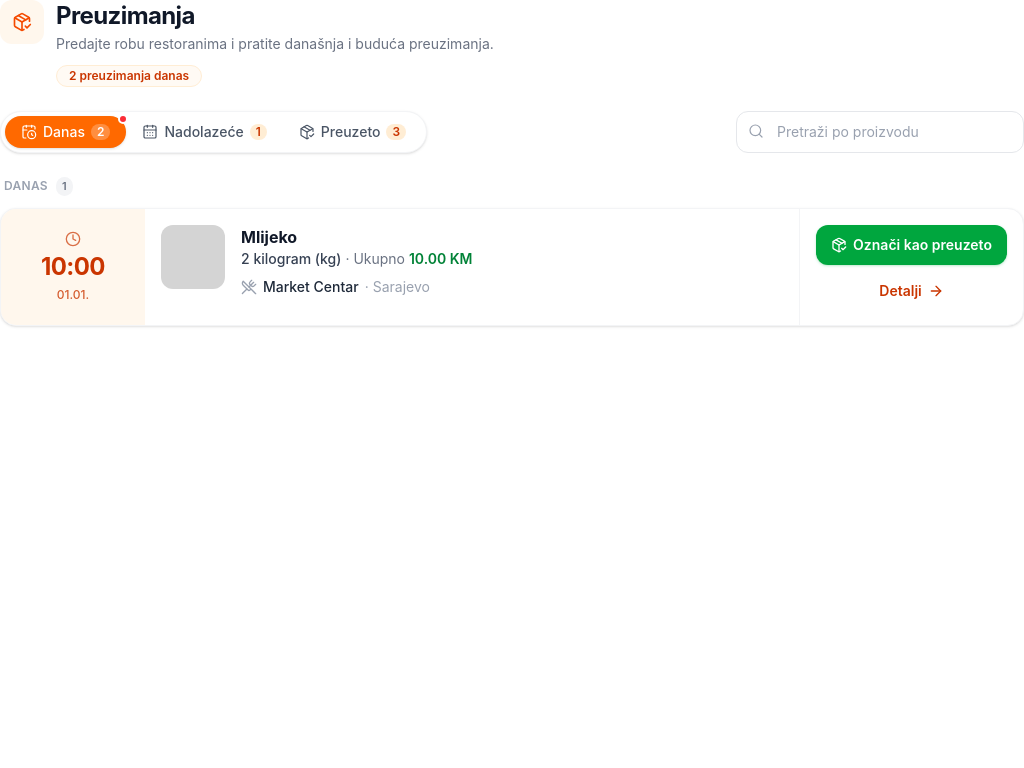
Test: PickupsPage › lets the store confirm a pickup and reloads the list and the counts
Step 1. Click the button "Označi kao preuzeto" → (912, 245), box x1=816 y1=225 x2=1007 y2=265
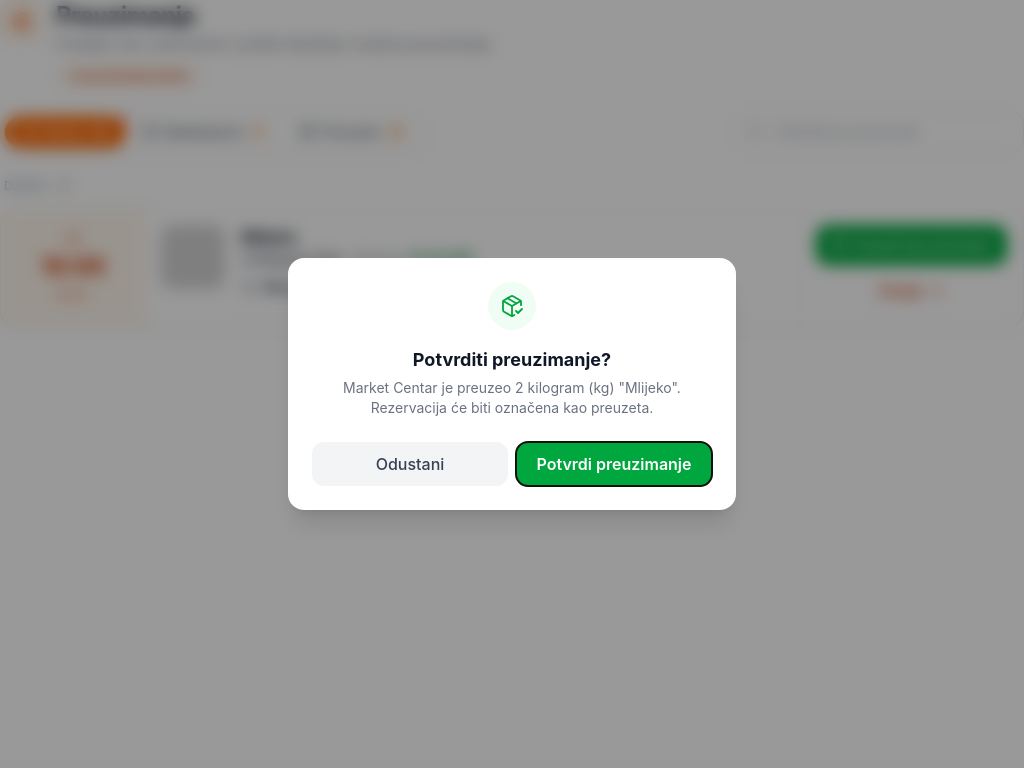
Step 2. Click the button "Potvrdi preuzimanje" → (614, 464), box x1=516 y1=442 x2=712 y2=486
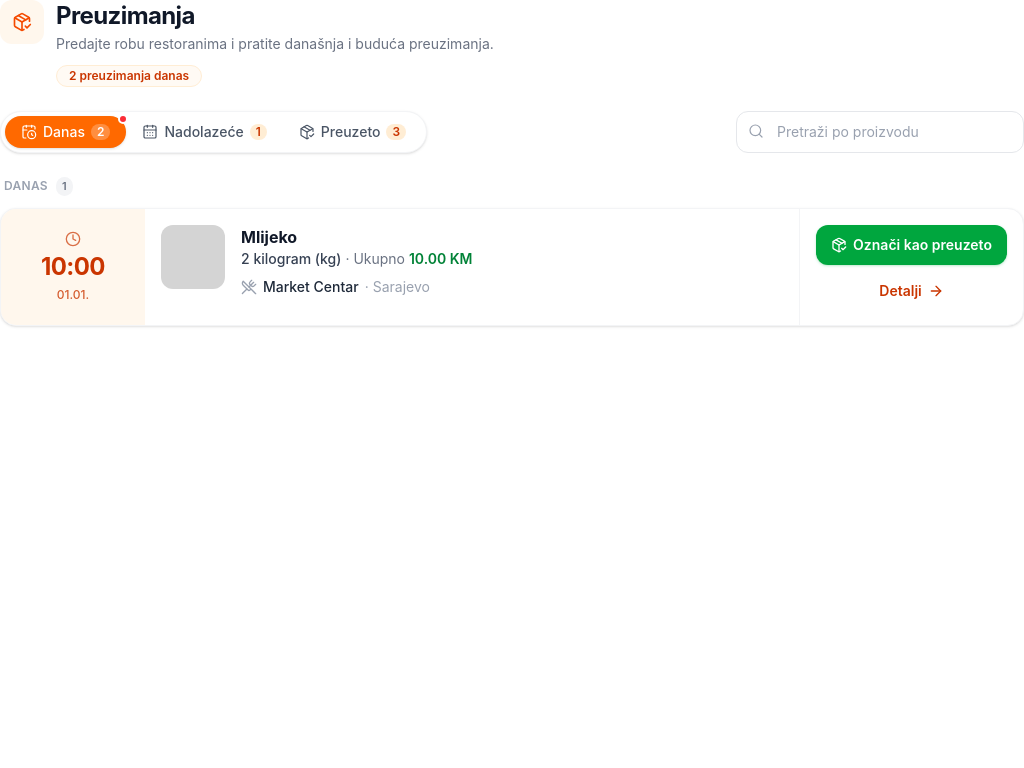
Result: the dialog is gone
